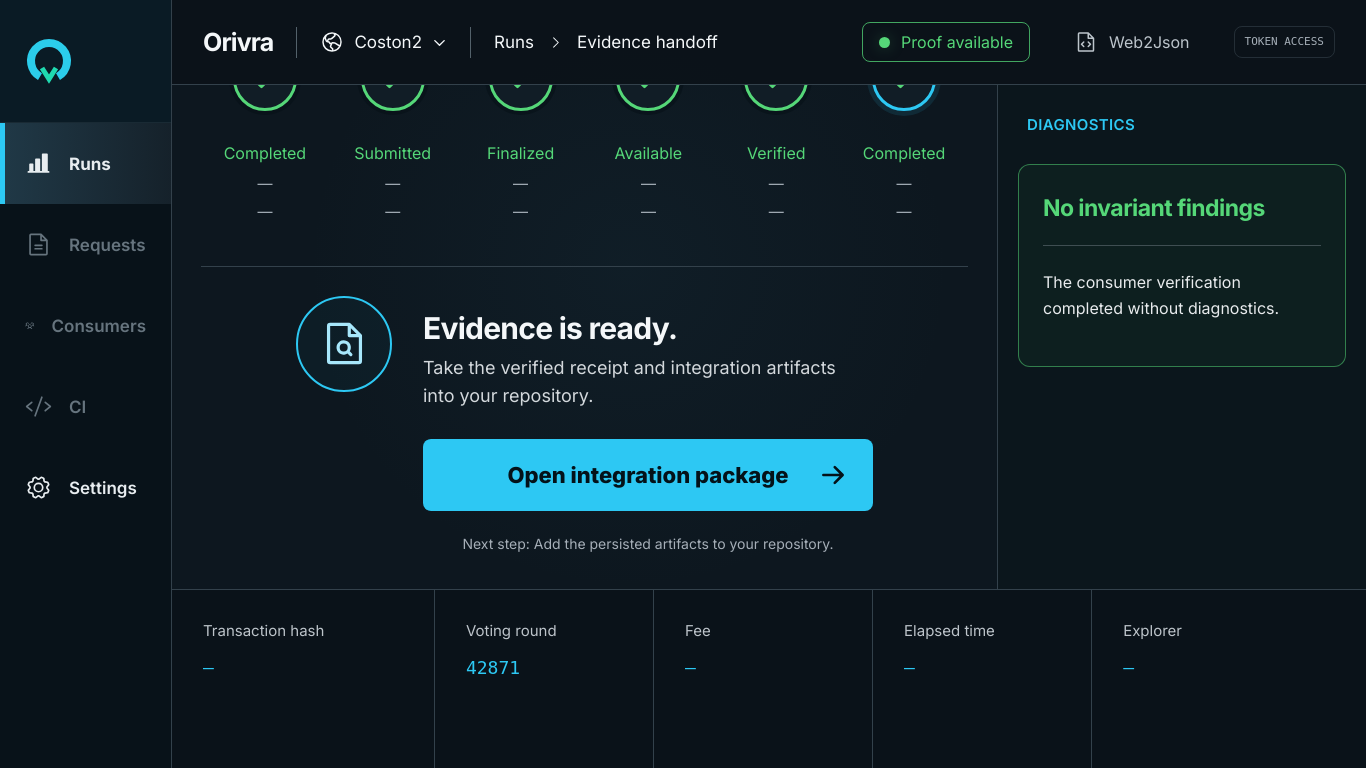
Test: Slice 020B Integration Package surface › keeps share-reader cockpit export and replay mutations unavailable
(page scrolled)
Click the button "Open integration package".
click(648, 475)  # box [423,439,873,511]
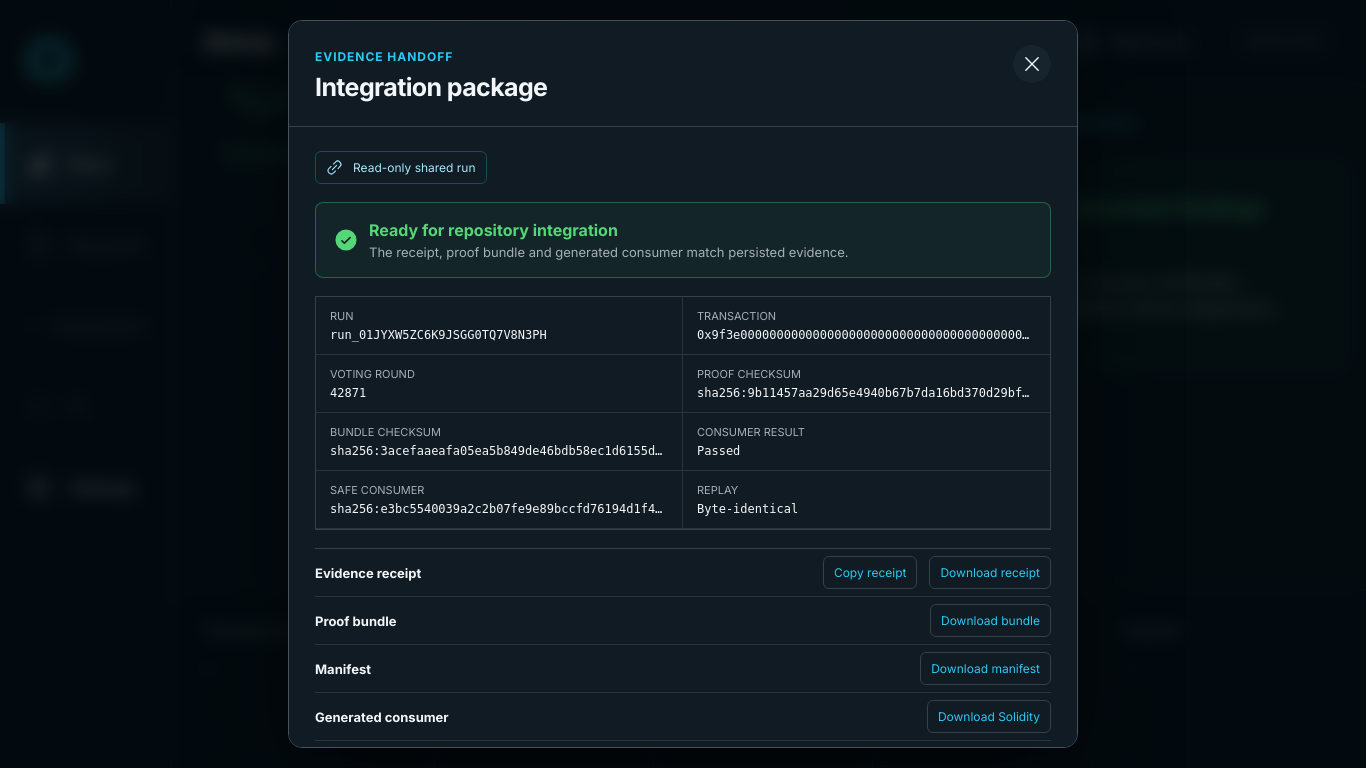
Expected: the link "Download bundle" is shown, [930,604,1051,637]
